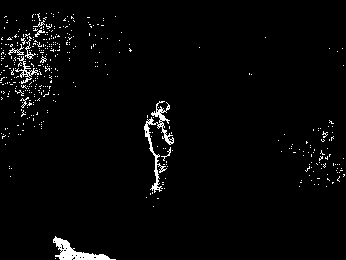person: (142, 98, 176, 199)
